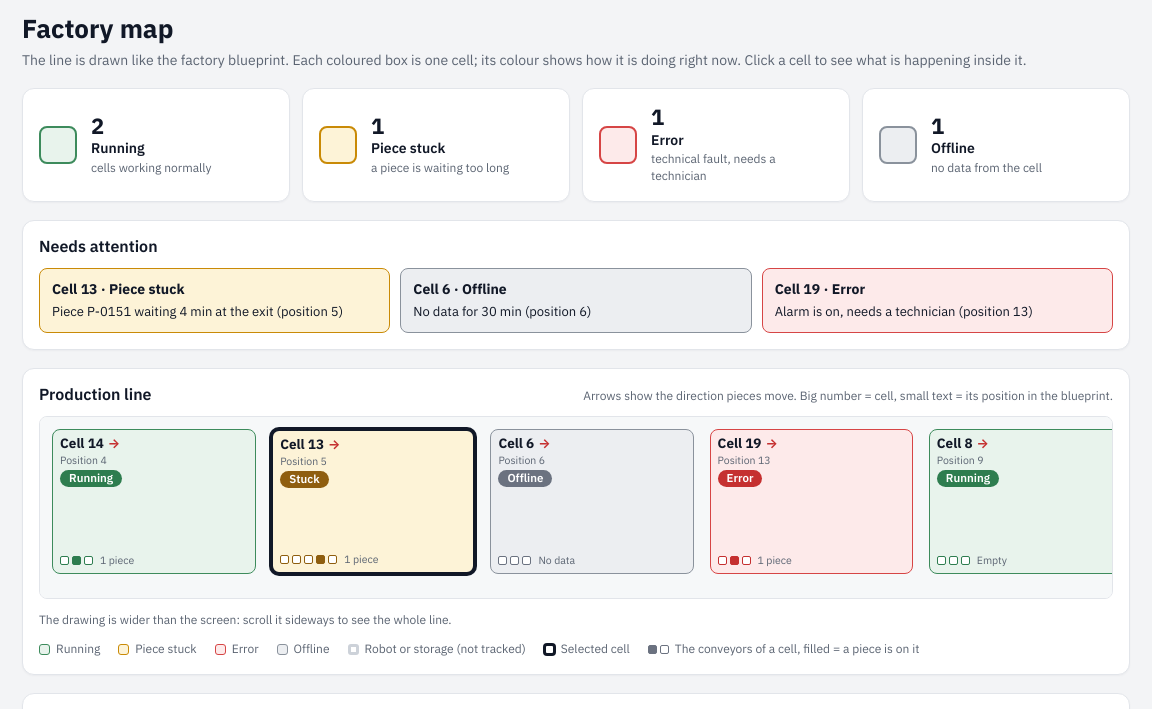
Test: FactoryMap › explains a running cell that is waiting to hand a piece over
This screenshot has width=1152, height=709.
Click the button with test id "cell-4". click: click(154, 502)
box: [52,430,256,574]
(page scrolled)
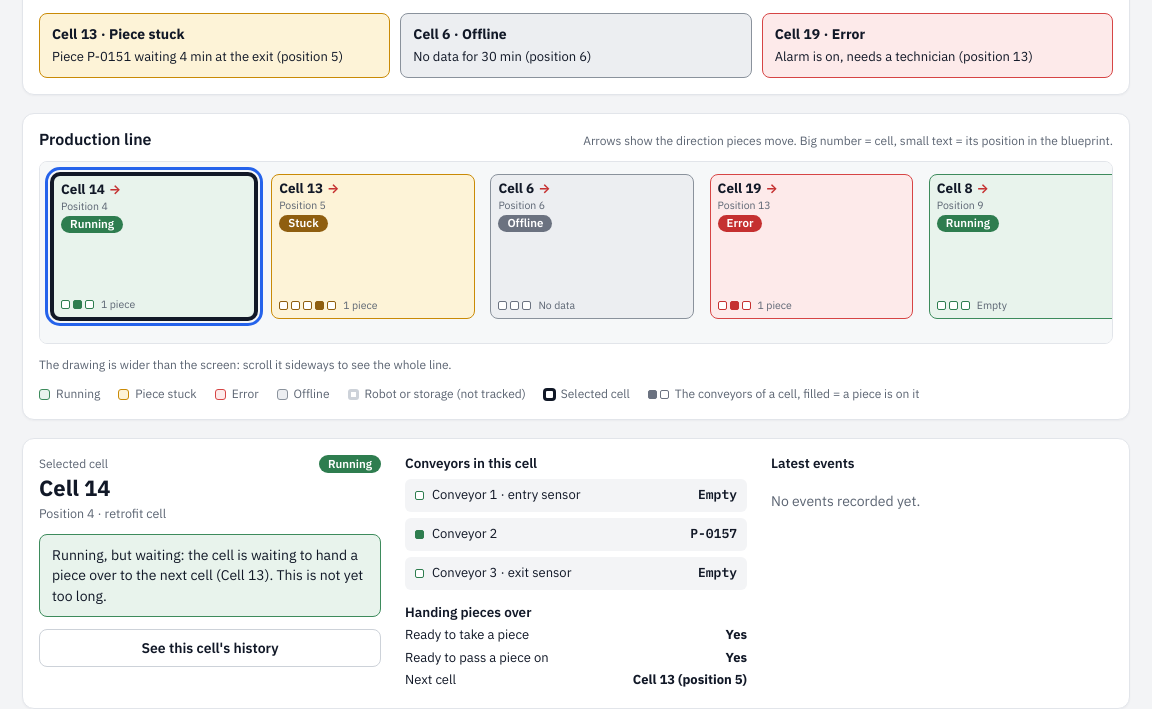
Expected: the text with test id "cell-explanation" shows "Running, but waiting: the cell is waiting to hand a piece over to the next cell (Cell 13). This is not yet too long.", [52,546,363,605]
